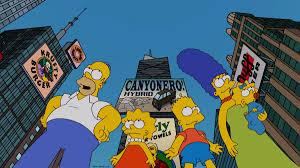Bart: (166, 92, 223, 168)
Homer: (21, 52, 120, 168)
Lisa: (110, 106, 163, 168)
Maggie: (235, 75, 275, 138)
Marge: (172, 42, 241, 103)
